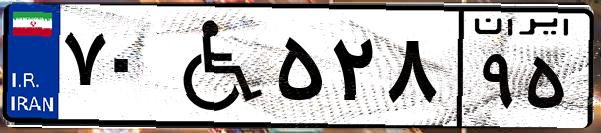0: (110, 28, 158, 98)
2: (330, 28, 385, 110)
5: (270, 28, 330, 110), (525, 38, 570, 115)
7: (57, 26, 110, 100)
8: (385, 28, 445, 110)
9: (475, 38, 525, 113)
ژ (معلولین و جانبازان): (158, 12, 270, 120)
